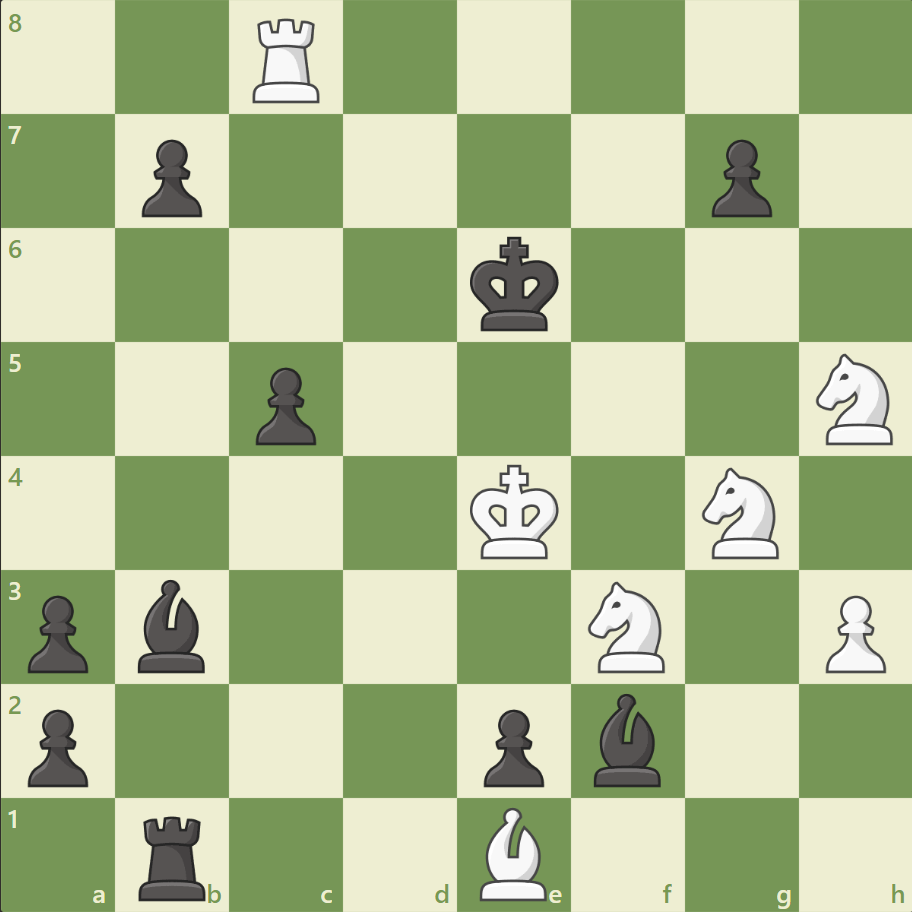B: (471, 801, 555, 904)
K: (465, 458, 565, 566)
N: (692, 461, 789, 564), (806, 348, 903, 450), (579, 575, 676, 677)
P: (815, 586, 889, 677)
R: (246, 12, 329, 109)
b: (585, 687, 669, 790), (131, 574, 215, 676)
k: (465, 231, 565, 339)
p: (133, 132, 208, 223), (701, 132, 776, 223), (247, 359, 322, 450), (20, 586, 95, 677), (20, 700, 95, 791), (474, 700, 549, 791)
r: (133, 806, 215, 904)
